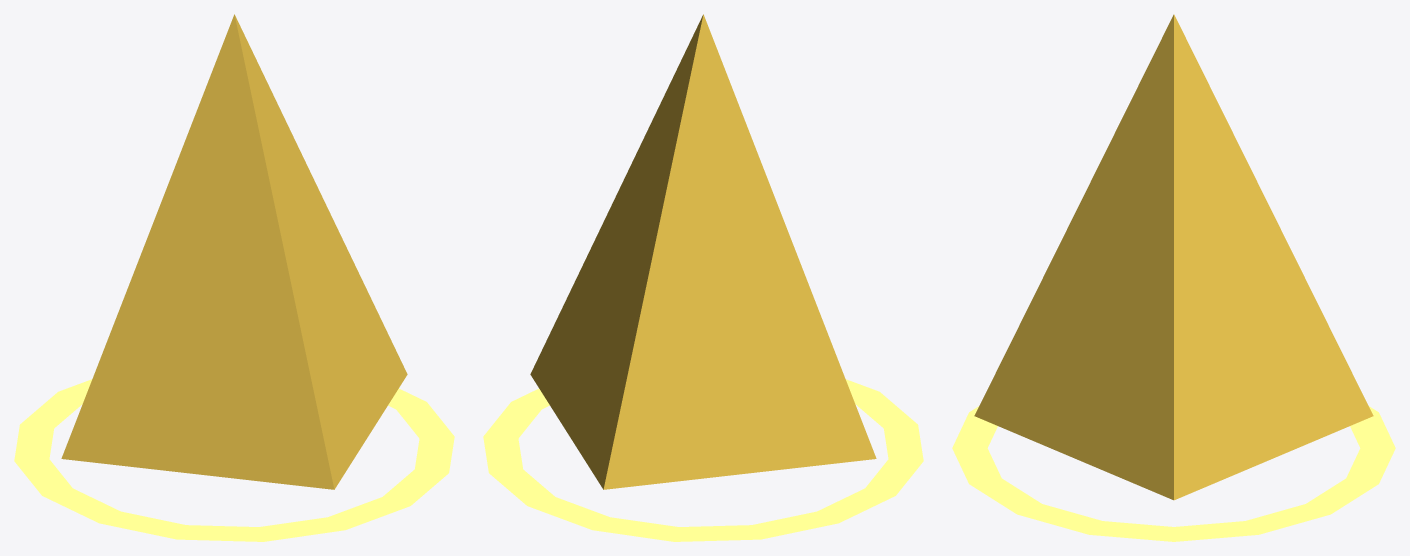
3 views of the same model, side by side, from view 1: azimuth 30°, elevation 25°; view 2: azimuth 150°, elevation 25°; view 3: azimuth 270°, elevation 25° (orthographic).
Parts seen in each view (by area): view 1: emblem_taller.lod1; view 2: emblem_taller.lod1; view 3: emblem_taller.lod1.
Part boxes in pixels (bbox=[...]): emblem_taller.lod1: bbox=[14, 14, 454, 541]; emblem_taller.lod1: bbox=[483, 14, 923, 541]; emblem_taller.lod1: bbox=[952, 14, 1395, 541].
Bounding box in the file's own units: 1 × 1.08 × 1.
